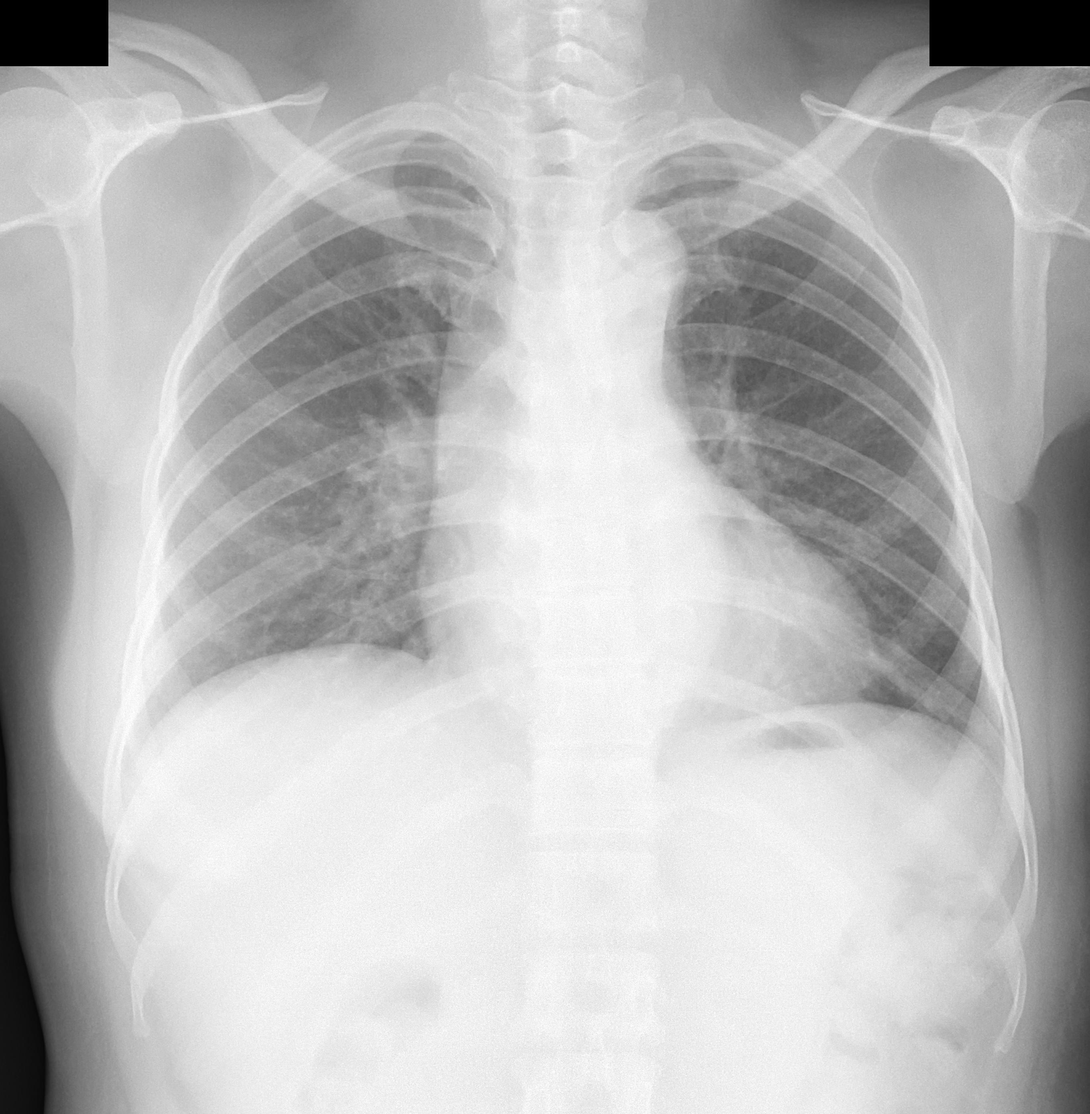Aortic enlargement: (447, 215, 687, 415)
